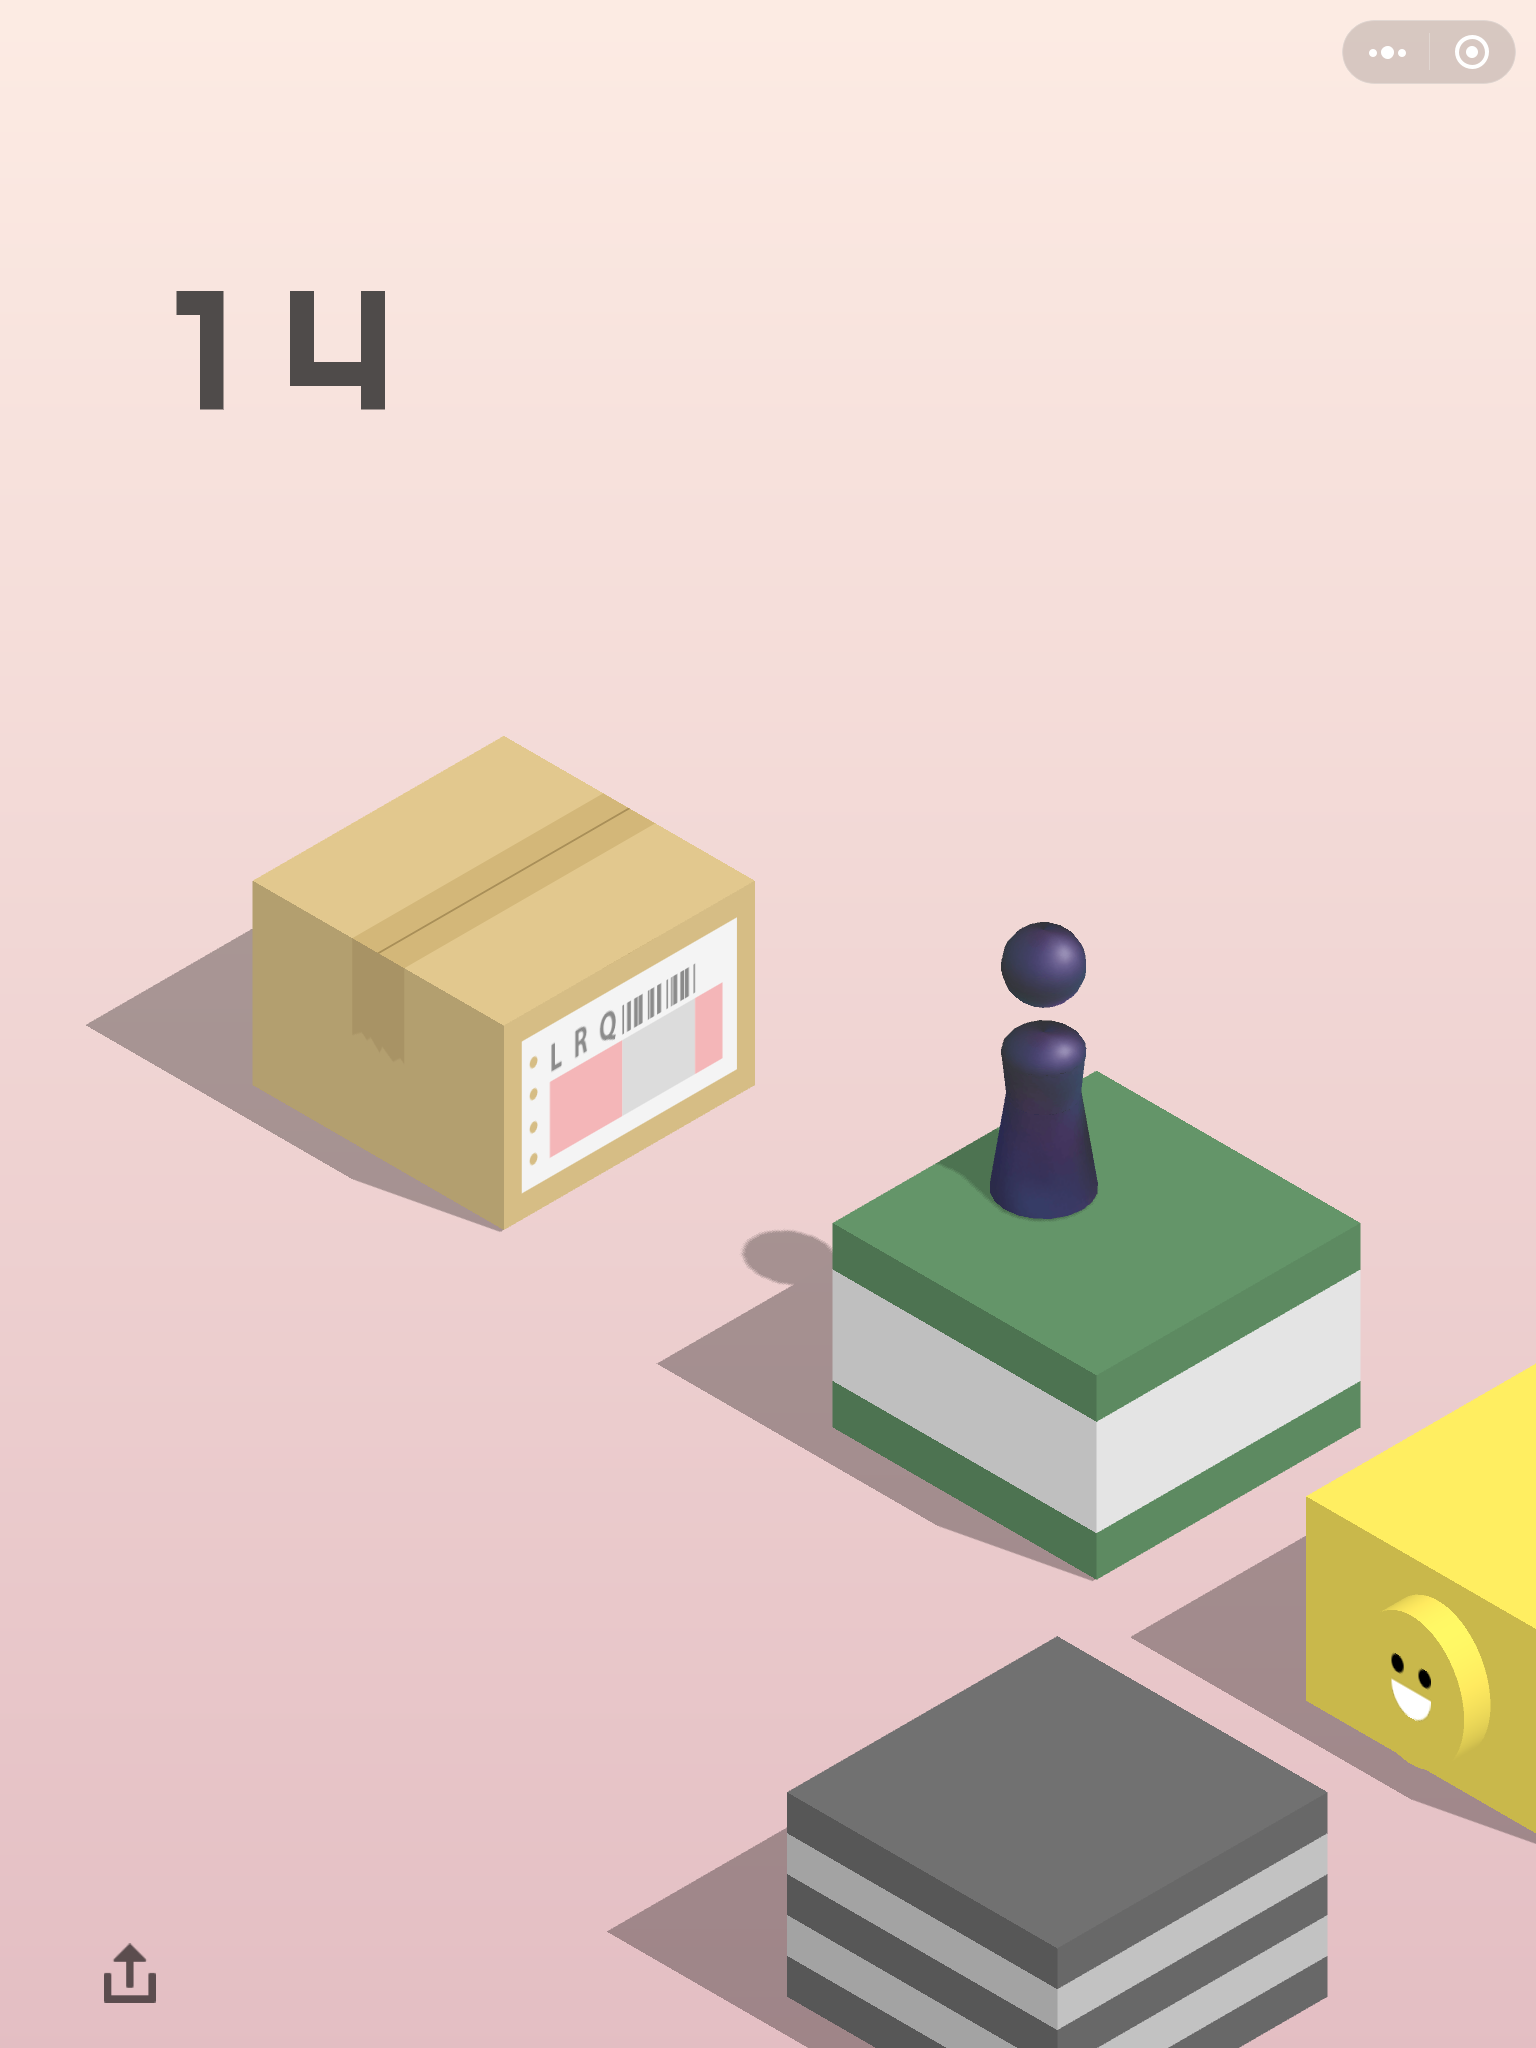f: (824, 1068, 1368, 1584), (244, 734, 765, 1235), (779, 1632, 1336, 2048), (1297, 1343, 1536, 1846)
r: (987, 914, 1105, 1229)
